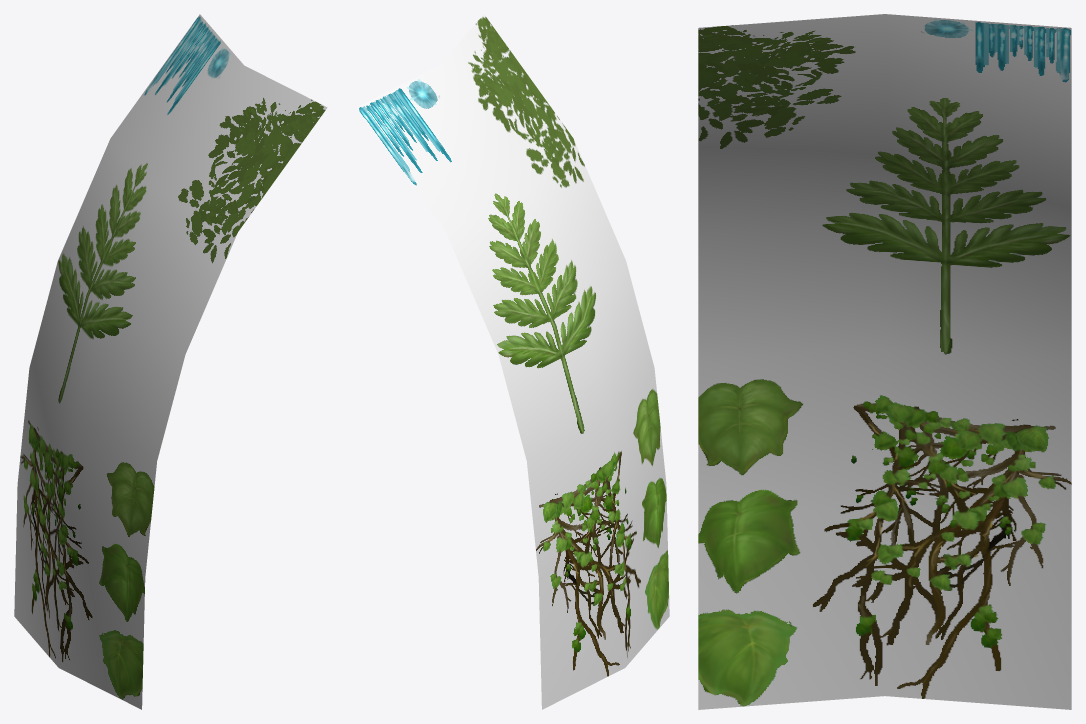
The model's file is waterfall.fbx.
3 renders of one model, left to right at view 1: azimuth 30°, elevation 25°; view 2: azimuth 150°, elevation 25°; view 3: azimuth 270°, elevation 25°, orthographic. The views are drawn at different scales.
Parts seen in each view (by area): view 1: waterfall; view 2: waterfall; view 3: waterfall.
Part boxes in pixels (<box>): waterfall: <box>14,14,327,709</box>; waterfall: <box>356,14,669,709</box>; waterfall: <box>698,14,1071,709</box>.
Bounding box in the file's own units: 2.69 × 6.98 × 2.9.
